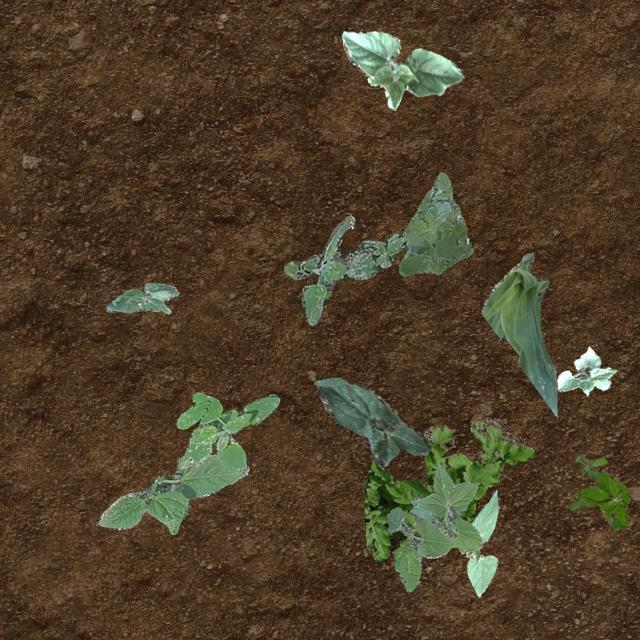crop: (479, 250, 556, 416), (96, 454, 246, 534), (314, 376, 429, 466), (340, 30, 462, 110), (464, 488, 498, 596), (556, 346, 616, 394), (104, 282, 178, 312)
weed: (363, 416, 534, 564), (282, 214, 408, 324), (386, 462, 481, 590), (174, 392, 278, 472), (398, 172, 472, 276), (568, 454, 630, 528)
